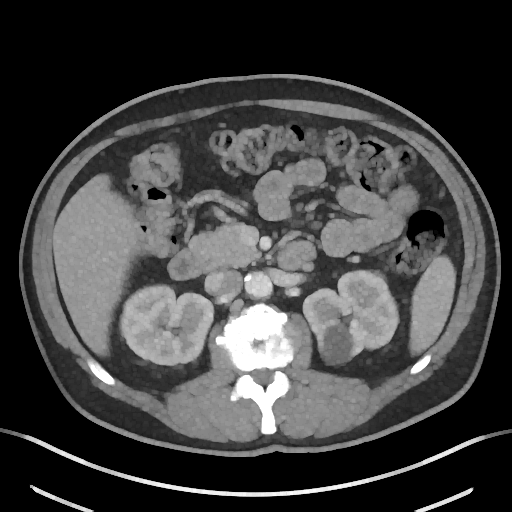Lesion: (315, 320, 356, 368)
